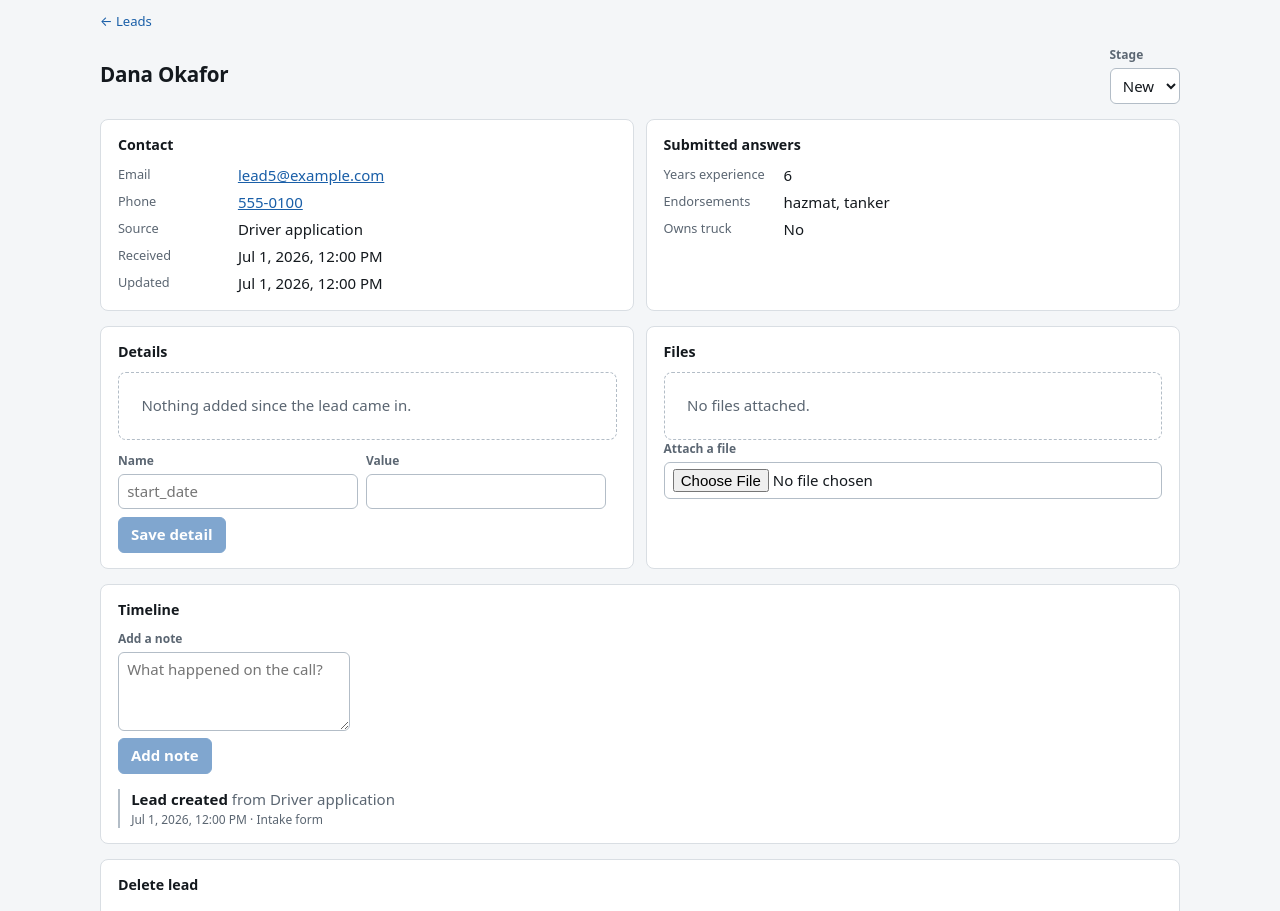
Test: LeadDetail › adds a detail, shows it, and removes it again
Expected: the heading "Dana Okafor" is shown, [100, 60, 228, 90]
Type " start_date " into the field labelled "Name".
click(238, 492); type(" start_date ")  # box [118, 474, 358, 509]
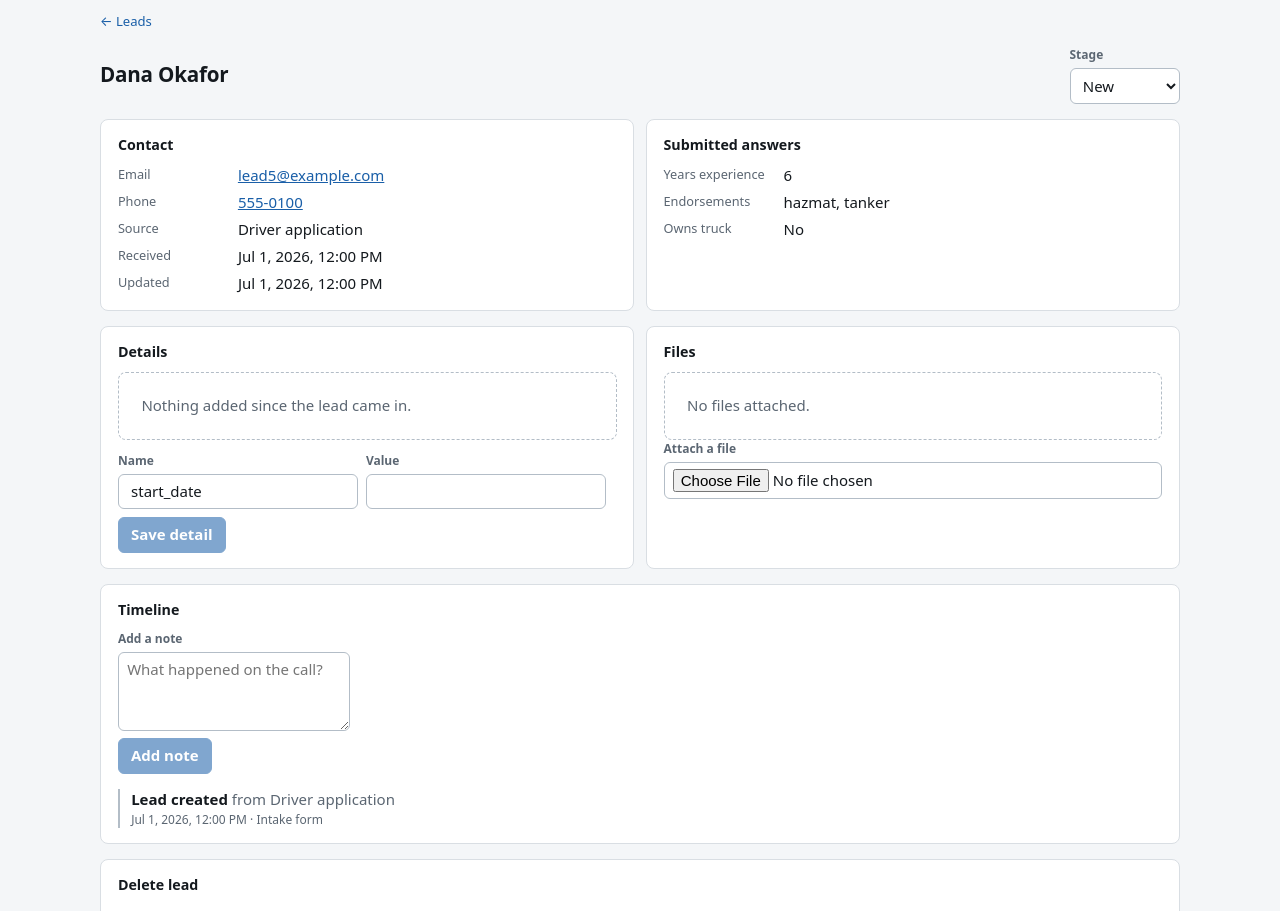
Type "Nov 2" into the field labelled "Value".
click(486, 492); type("Nov 2")  # box [366, 474, 606, 509]
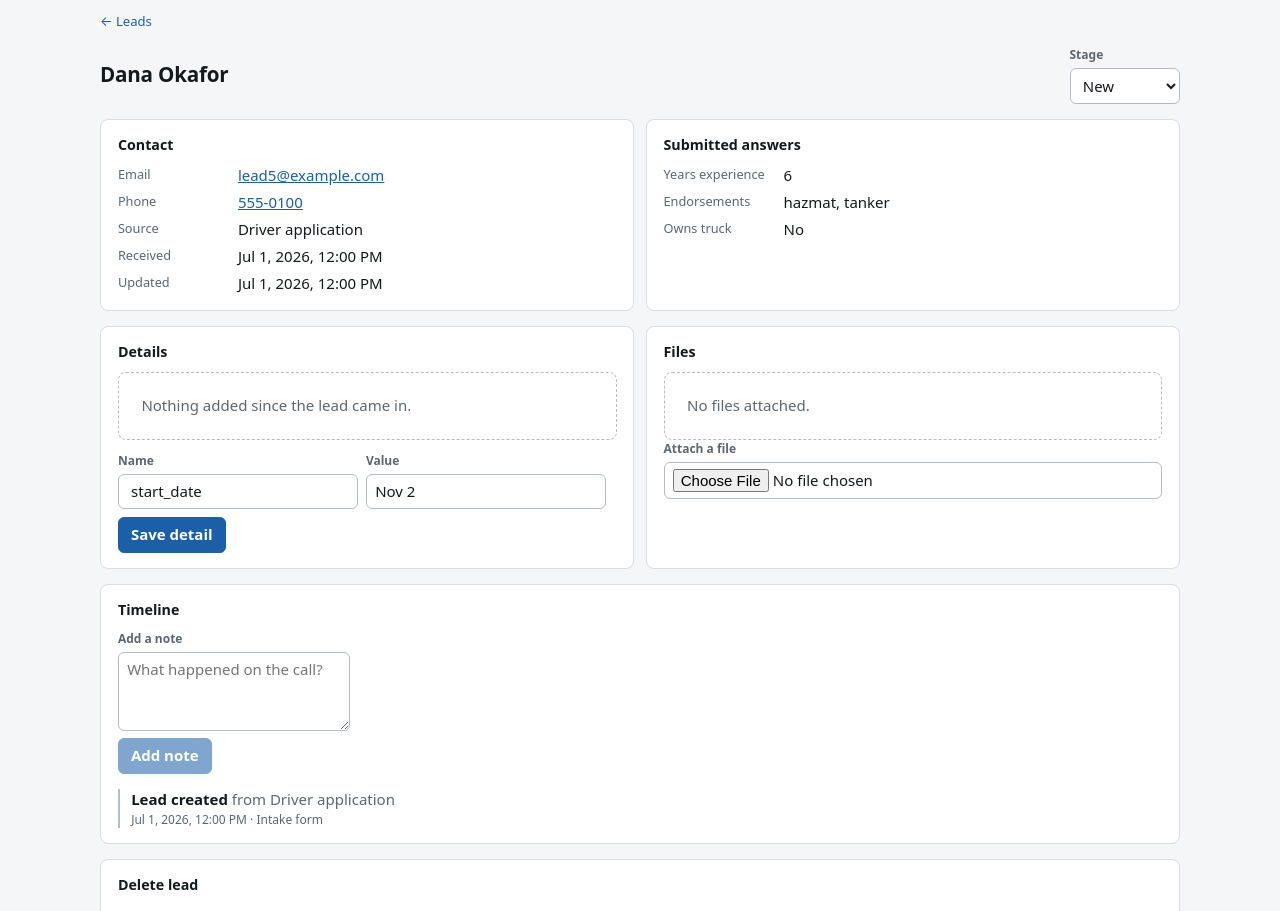
Click the button "Save detail".
click(172, 535)  # box [118, 517, 226, 553]
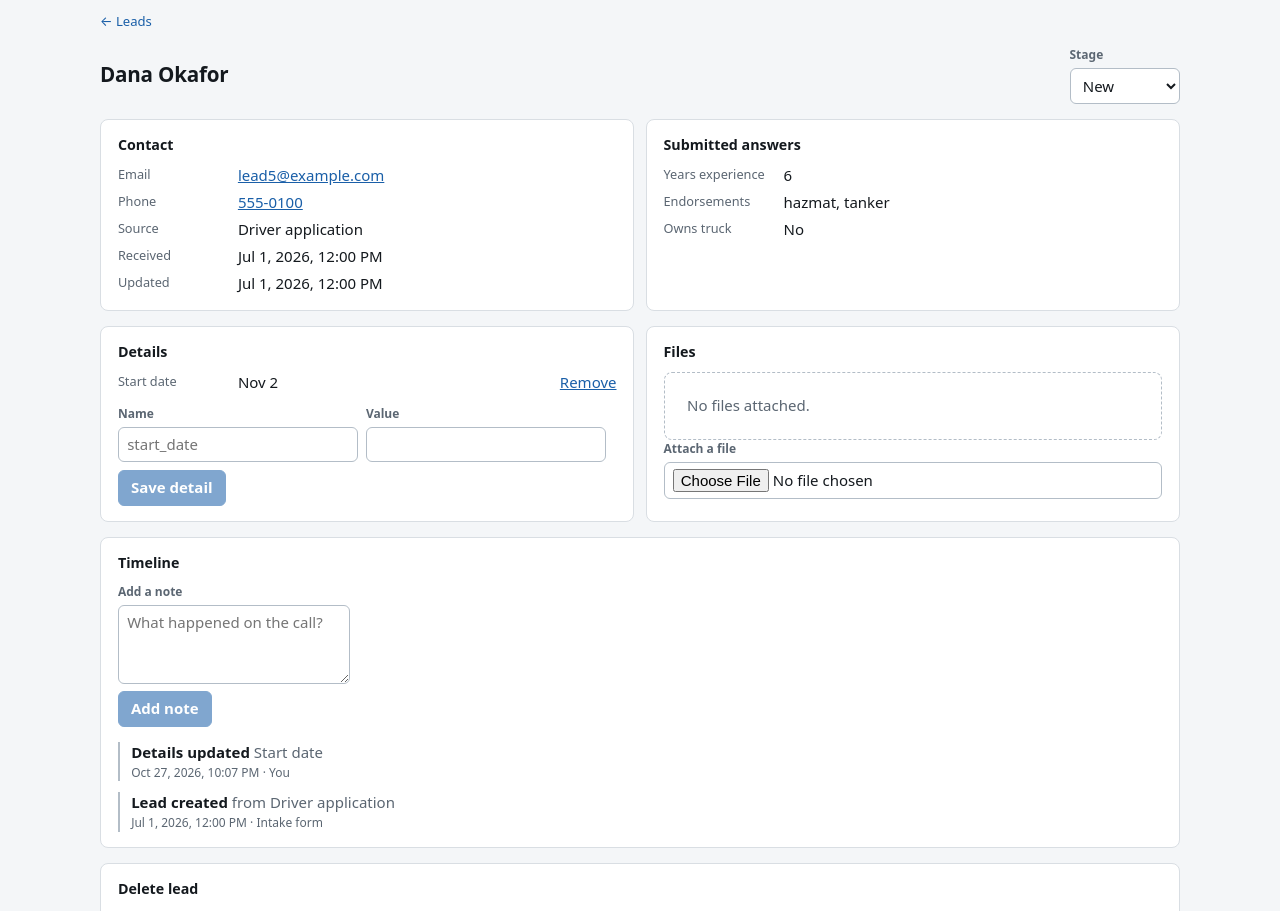
Expected: the text "Nov 2" is shown, [238, 372, 278, 394]
Expected: the text "Details updated" is shown, [131, 742, 250, 762]
Expected: the field labelled "Name" is empty, [118, 427, 358, 462]
Click the button with aria-label "Remove Start date".
click(588, 383)  # box [560, 372, 616, 394]
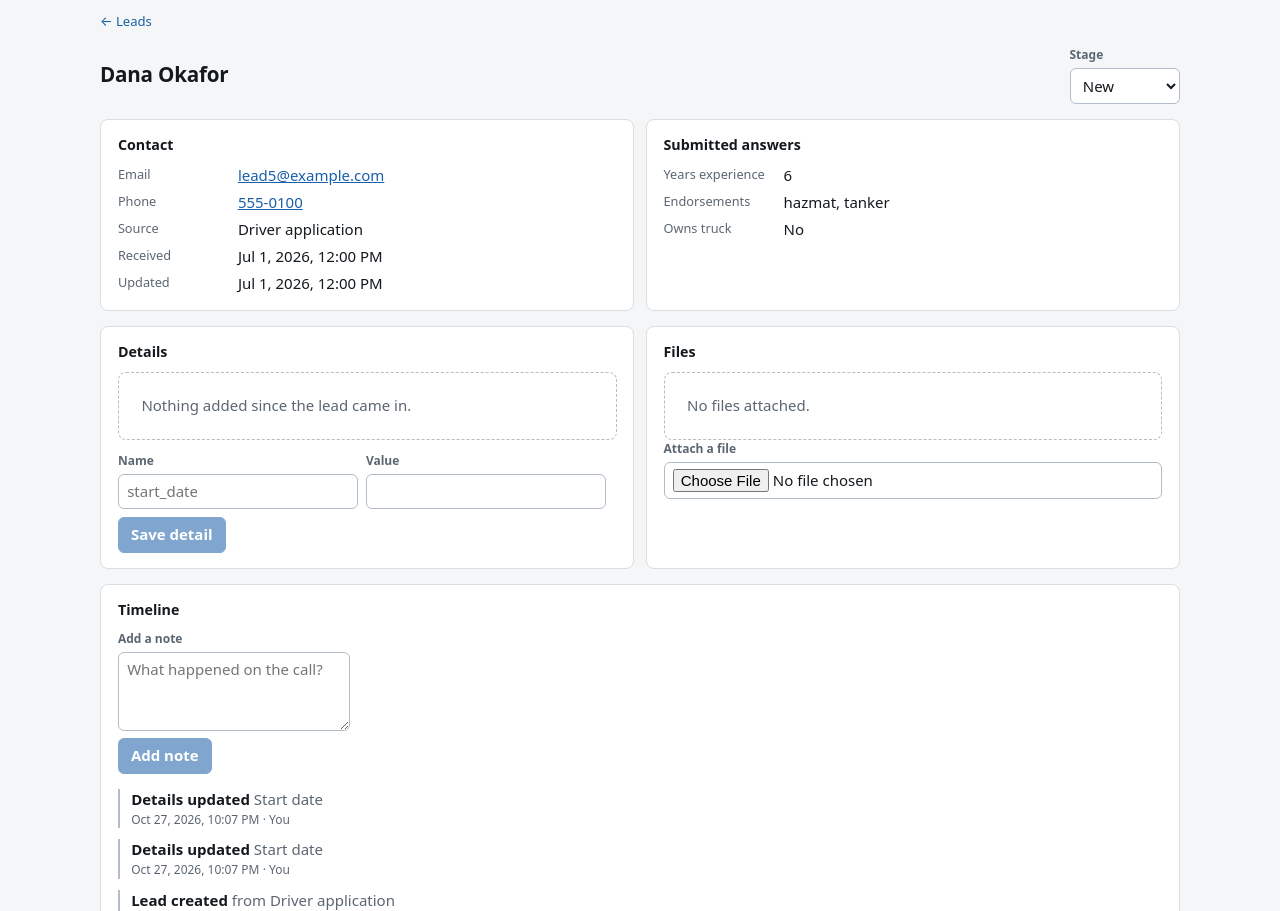
Expected: the text "Nov 2" is gone
